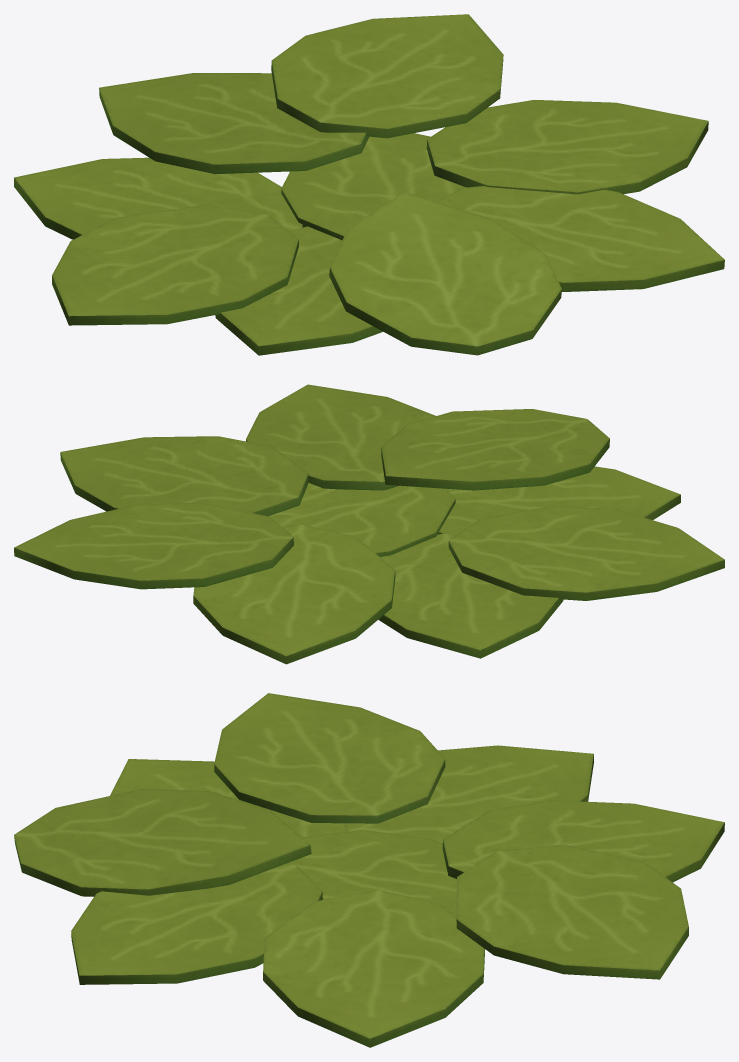
The model's file is CabbageSlices.fbx.
3 renders of one model, top to bottom at view 1: azimuth 30°, elevation 25°; view 2: azimuth 150°, elevation 25°; view 3: azimuth 270°, elevation 25°, orthographic. The views are drawn at different scales.
Parts seen in each view (by area): view 1: CabbageSlices; view 2: CabbageSlices; view 3: CabbageSlices.
Part boxes in pixels (left/top/right/bottom): CabbageSlices: left=14, top=14, right=724, bottom=355; CabbageSlices: left=14, top=384, right=724, bottom=664; CabbageSlices: left=14, top=693, right=724, bottom=1047.
Bounding box in the file's own units: 52.67 × 3.06 × 47.24.
